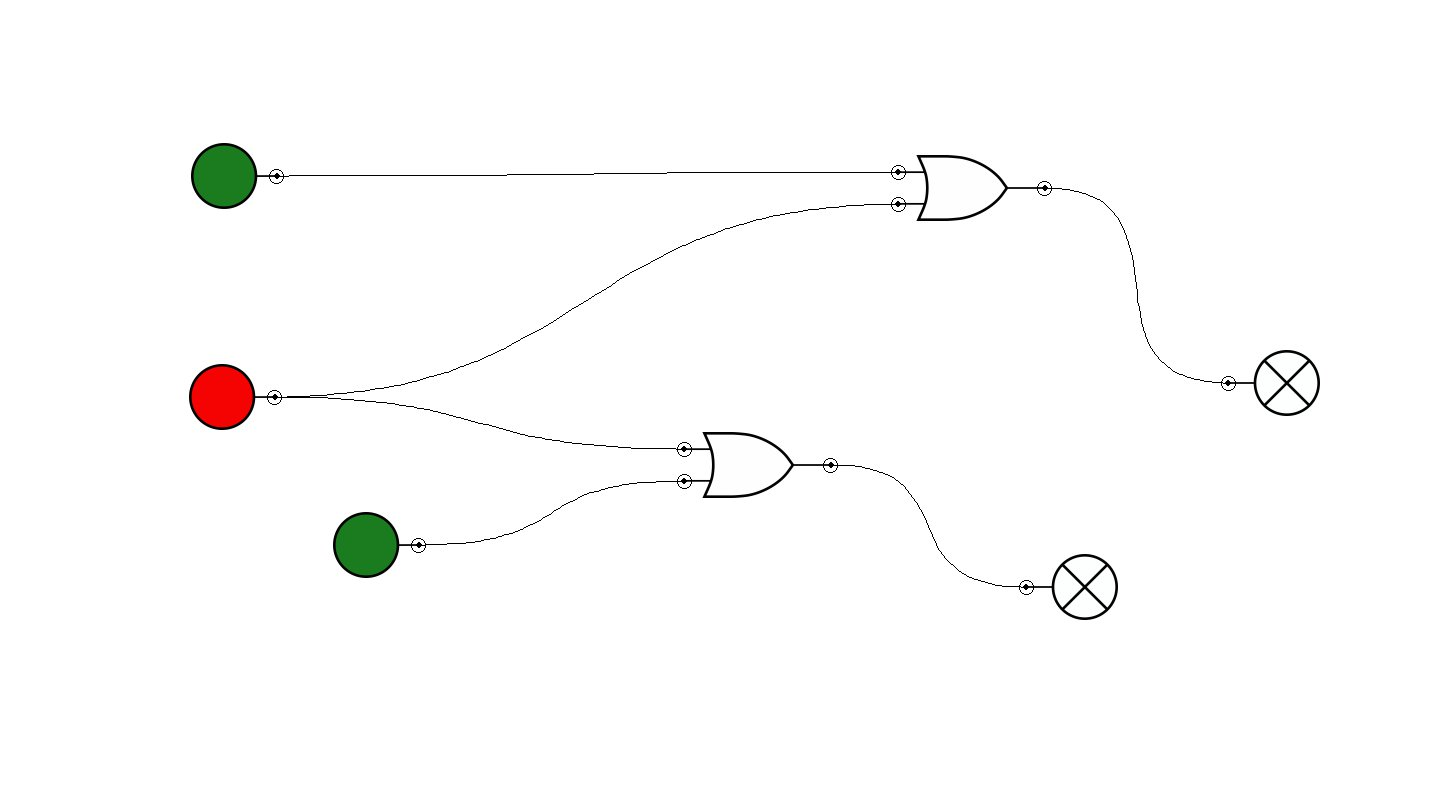bulb: (1221, 350, 1320, 416), (1019, 554, 1118, 620)
or: (677, 432, 838, 498), (891, 155, 1052, 221)
switch_False: (189, 364, 282, 430)
switch_True: (333, 512, 426, 578), (191, 143, 284, 209)
